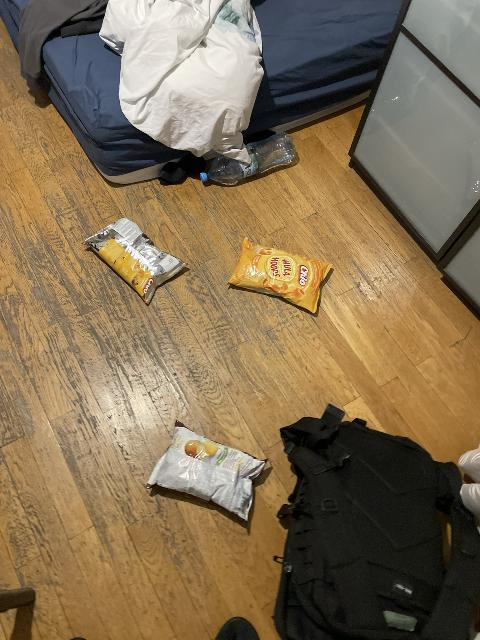Chio Cascaval 125g: (83, 218, 190, 305)
Chio Hula Hoops Cheese 70g: (227, 236, 331, 312)
Lays Beef Grilled Ribs 125g: (146, 419, 269, 520)
